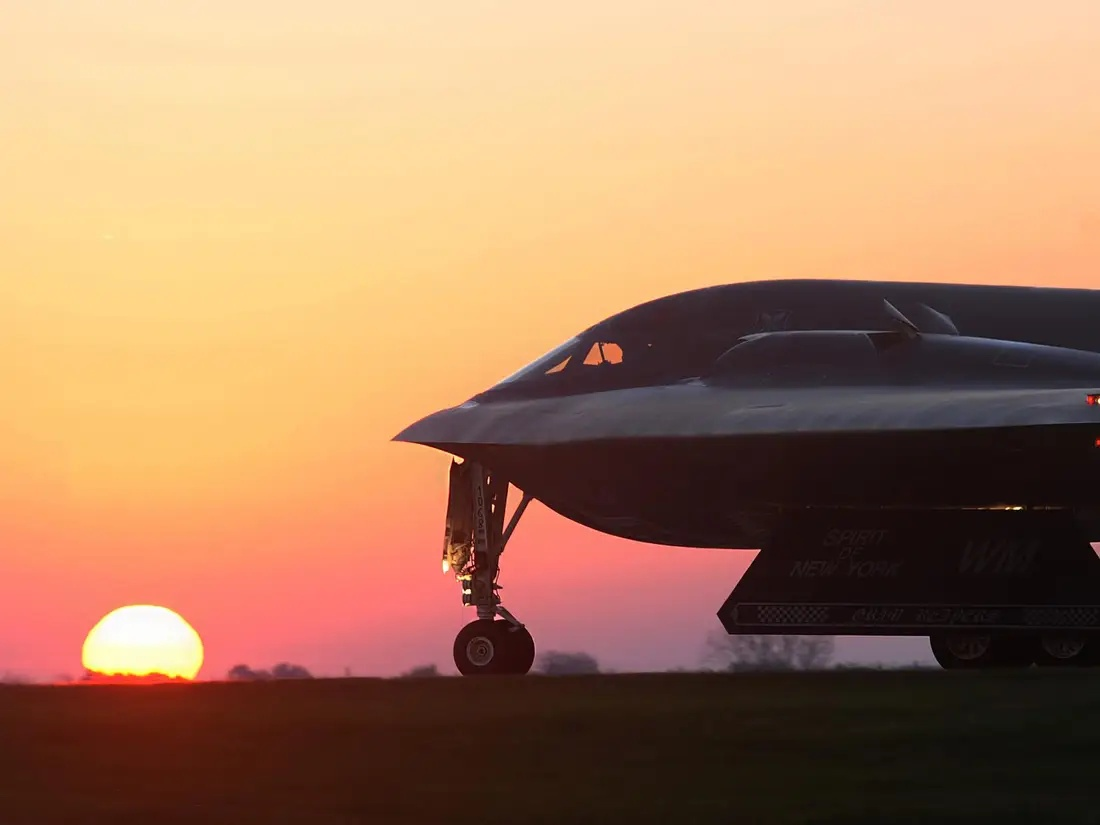B2: (389, 278, 1100, 674)
